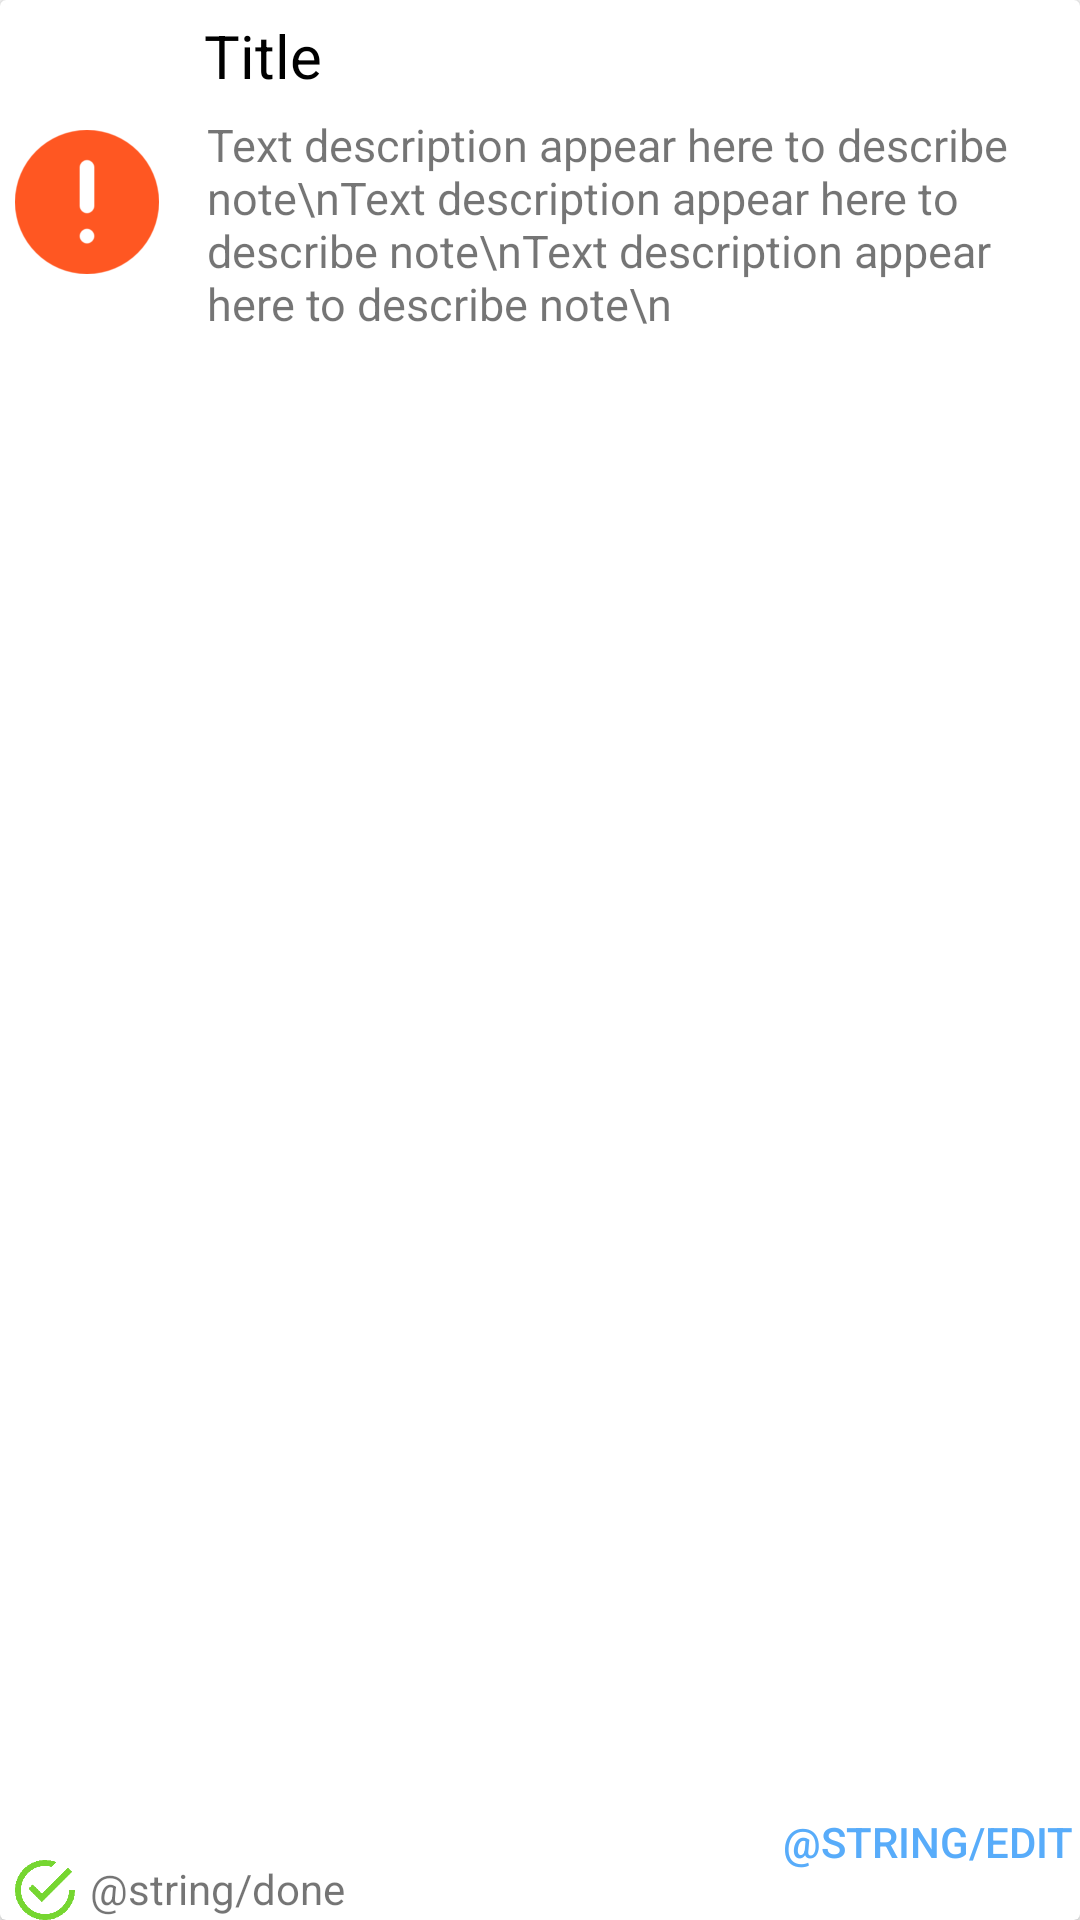

Icon click points for this 1080px x 1920px phone screenshot, format (x,y):
checked done: (45,1890)
important: (87,202)
